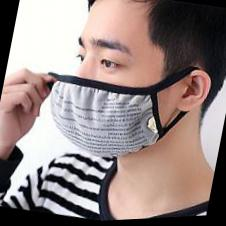WRONG: (39, 17, 181, 171)
